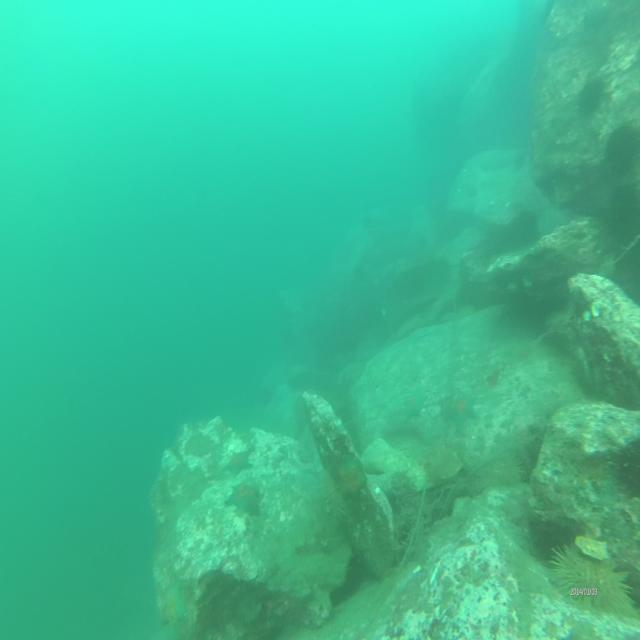echinus: (545, 537, 633, 620), (605, 120, 640, 174), (577, 73, 605, 111)
starfish: (225, 478, 260, 518), (444, 388, 475, 432), (338, 459, 364, 502), (223, 447, 251, 476), (403, 389, 424, 423)
